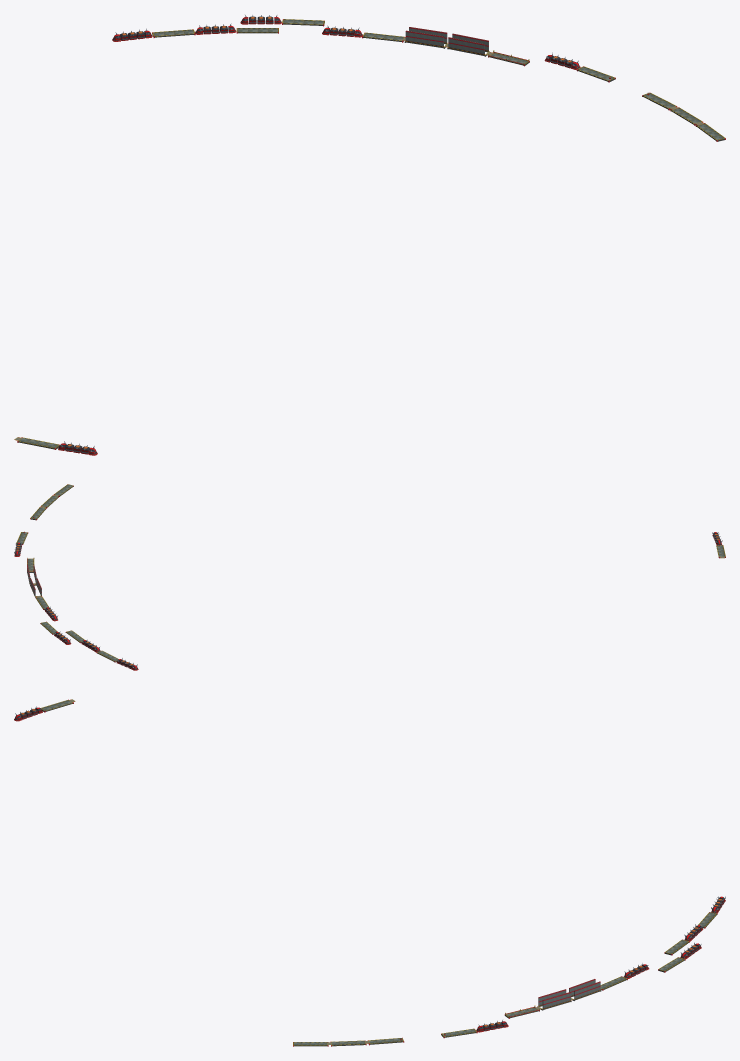
The model's file is STG08_ONS_16.obj.
3 renders of one model, top to bottom at view 1: azimuth 30°, elevation 25°; view 2: azimuth 150°, elevation 25°; view 3: azimuth 270°, elevation 25°, orthographic. The views are drawn at different scales.
Parts seen in each view (by area): view 1: Object_2; view 2: Object_2; view 3: Object_2.
Boxes of the visible parts, x1,y1,x2,y2 form: Object_2: (14,15,725,455); Object_2: (14,484,725,670); Object_2: (14,699,725,1046).
Size of the model in its own units: 9205 by 127 by 7995.
